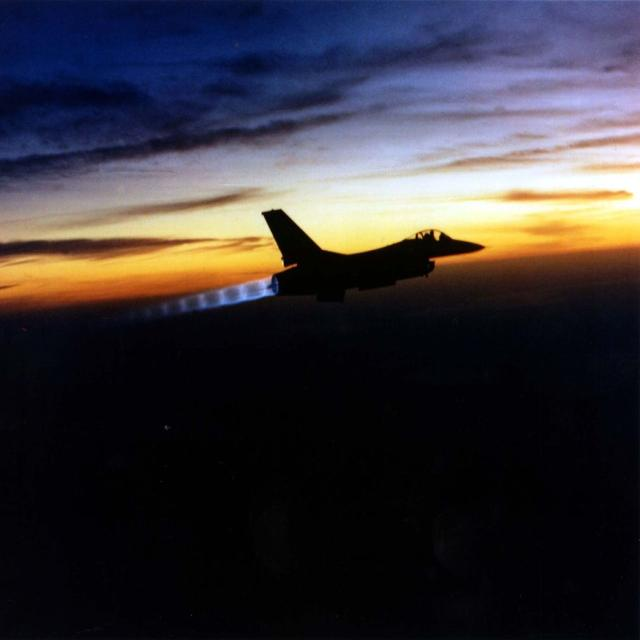MIL_Plane: (261, 208, 494, 304)
